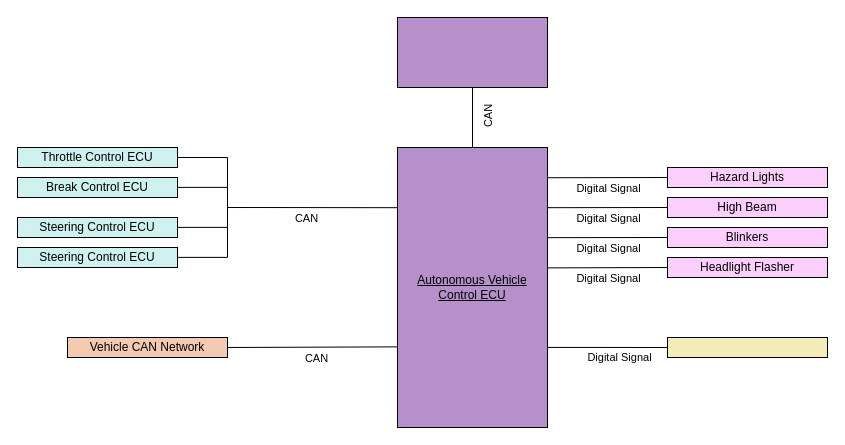
Some shapes in this 845 by 445 pixel diagram are drawn without their labels. The box of each missing label's shape, as (x1, y1, x2, y2) in pixels:
Audio Warning: (666, 336, 828, 358)
Autoware ECU: (396, 16, 548, 88)
